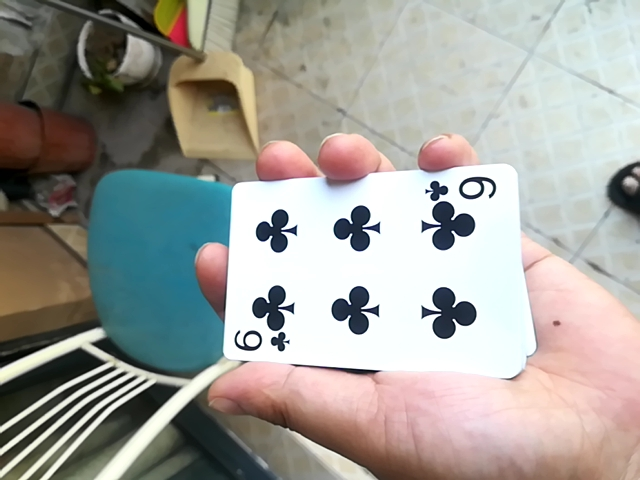mh 6: (218, 154, 540, 387)
